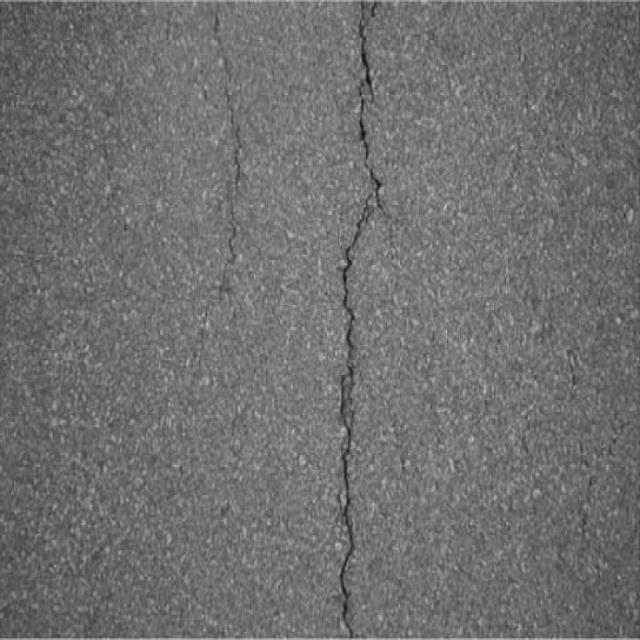crack: (333, 2, 385, 638), (210, 4, 247, 304)
